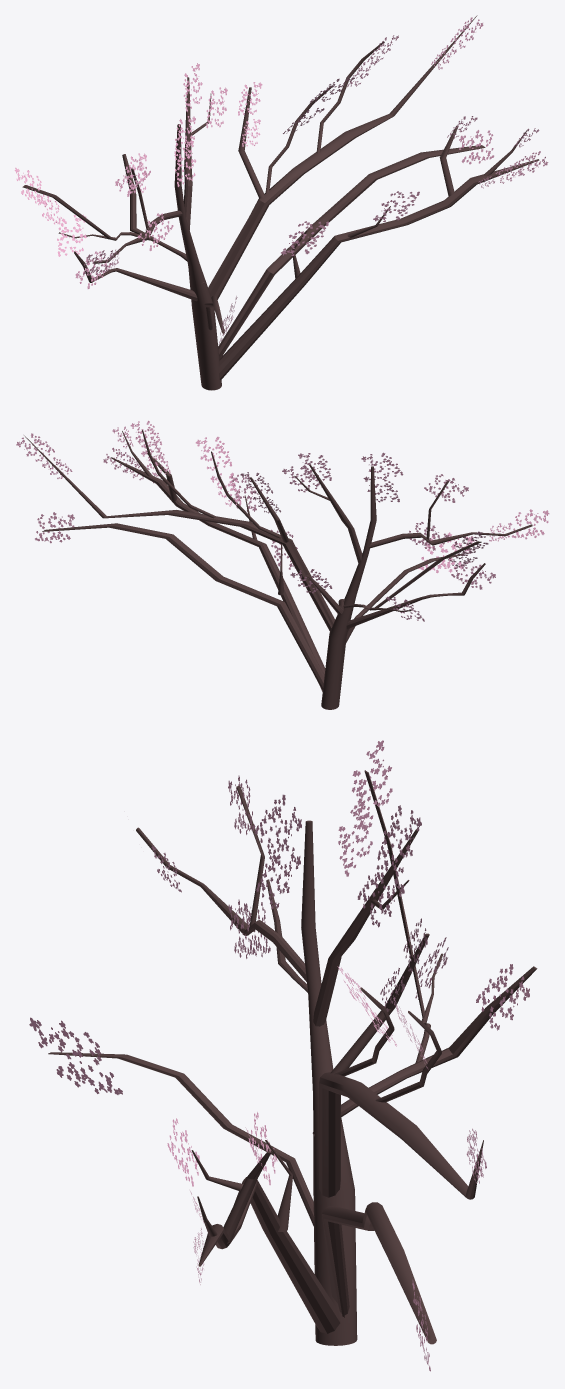
The model's file is ume.fbx.
3 views of the same model, one above another, from view 1: azimuth 30°, elevation 25°; view 2: azimuth 150°, elevation 25°; view 3: azimuth 270°, elevation 25° (orthographic). The views are drawn at different scales.
Visible parts, largest first — view 1: pPlane35; view 2: pPlane35; view 3: pPlane35.
Part boxes in pixels (x1,y1,x2,y2): pPlane35: [14, 15, 548, 390]; pPlane35: [16, 420, 549, 709]; pPlane35: [29, 740, 537, 1371].
Size of the model in its own units: 46.86 by 26.96 by 23.27.
